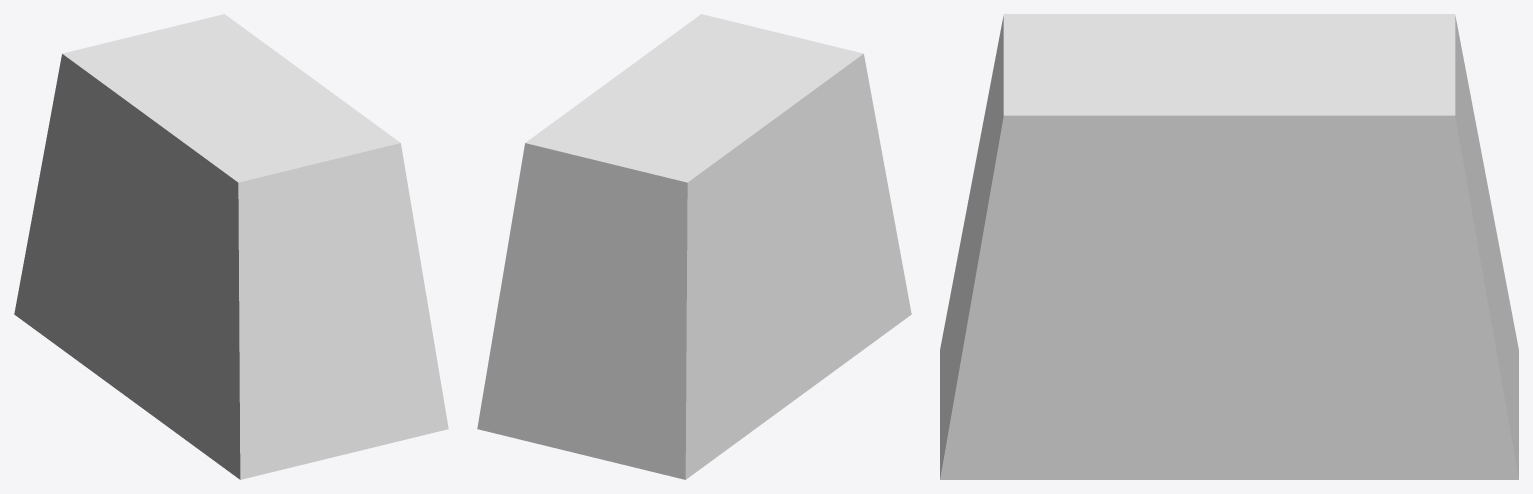
The model's file is onion05.gltf.
3 views of the same model, side by side, from view 1: azimuth 30°, elevation 25°; view 2: azimuth 150°, elevation 25°; view 3: azimuth 270°, elevation 25° (orthographic). The views are drawn at different scales.
Parts seen in each view (by area): view 1: Cube; view 2: Cube; view 3: Cube.
Boxes of the visible parts, left/top/right/bottom form: Cube: left=14, top=14, right=448, bottom=479; Cube: left=477, top=14, right=911, bottom=479; Cube: left=940, top=14, right=1518, bottom=479.
Size of the model in its own units: 0.00402 by 0.00504 by 0.00755.
Materials: 1 (1 with a texture image).
